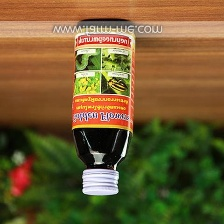insecticide: (66, 15, 142, 199)
